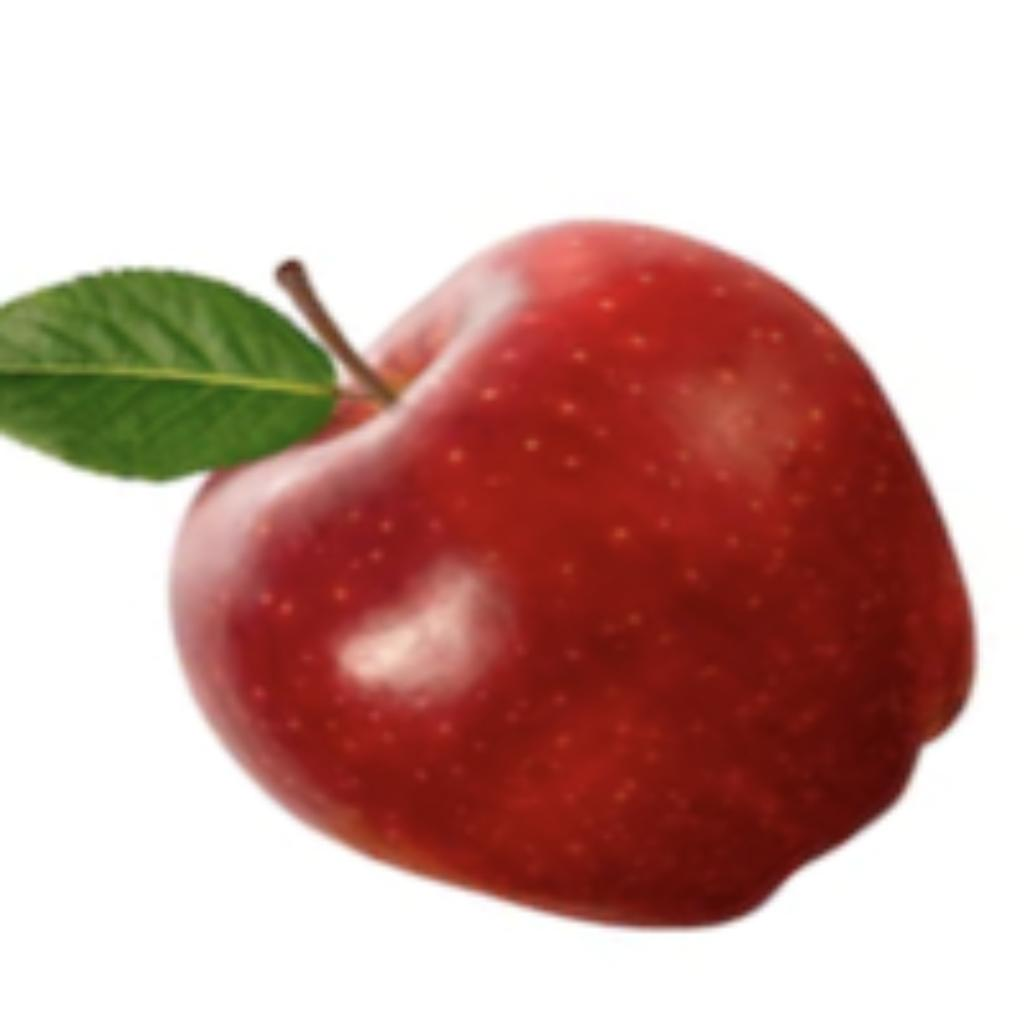apple: (0, 210, 983, 932)
